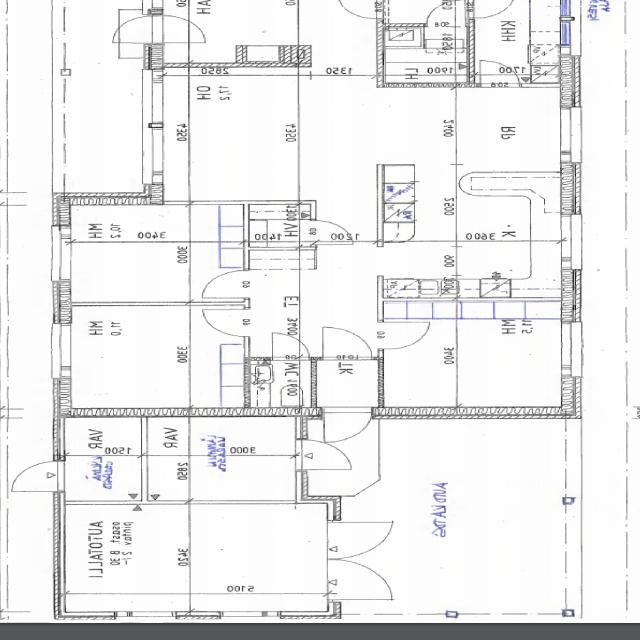door: (328, 521, 401, 560), (328, 560, 401, 598), (324, 407, 372, 449), (143, 15, 206, 42), (6, 462, 64, 491), (101, 15, 163, 42), (324, 326, 372, 360), (296, 441, 352, 469), (201, 270, 250, 298), (202, 309, 250, 336), (378, 322, 425, 348), (480, 58, 520, 88), (311, 220, 354, 244), (428, 0, 466, 27), (272, 334, 309, 360), (340, 0, 383, 19), (468, 0, 512, 18)
